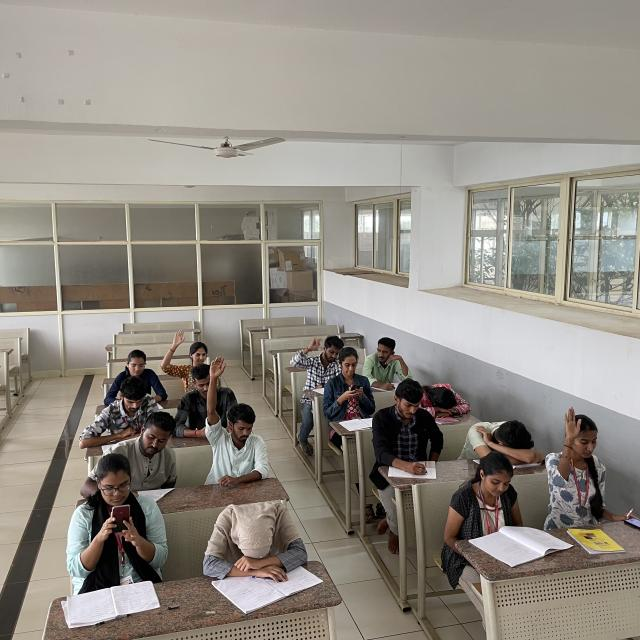Hand Rising: (204, 351, 269, 474), (546, 404, 610, 501), (159, 330, 212, 384), (294, 336, 345, 387)
Reading: (452, 458, 552, 559), (124, 410, 178, 494)
Sleeping: (202, 494, 308, 570), (463, 416, 543, 461), (419, 378, 472, 416)
Using Phone: (70, 452, 168, 576), (324, 347, 375, 416)
Writing: (373, 376, 438, 476), (364, 335, 413, 390)
